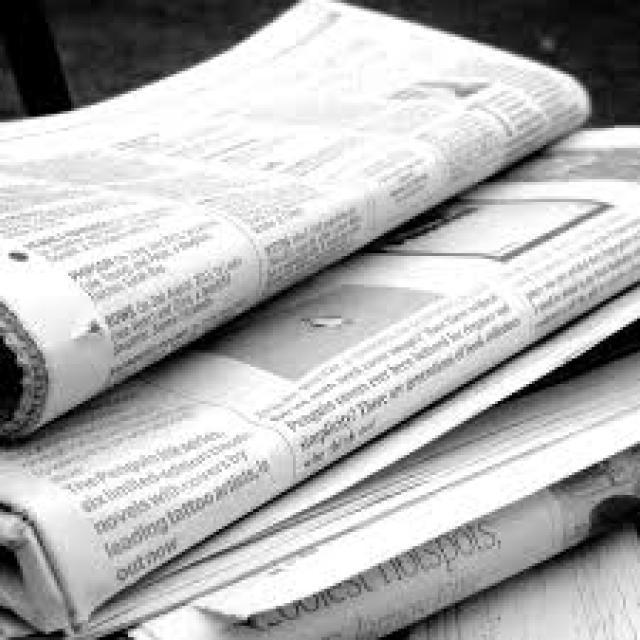Newspaper: (0, 131, 639, 625), (0, 0, 588, 444)
